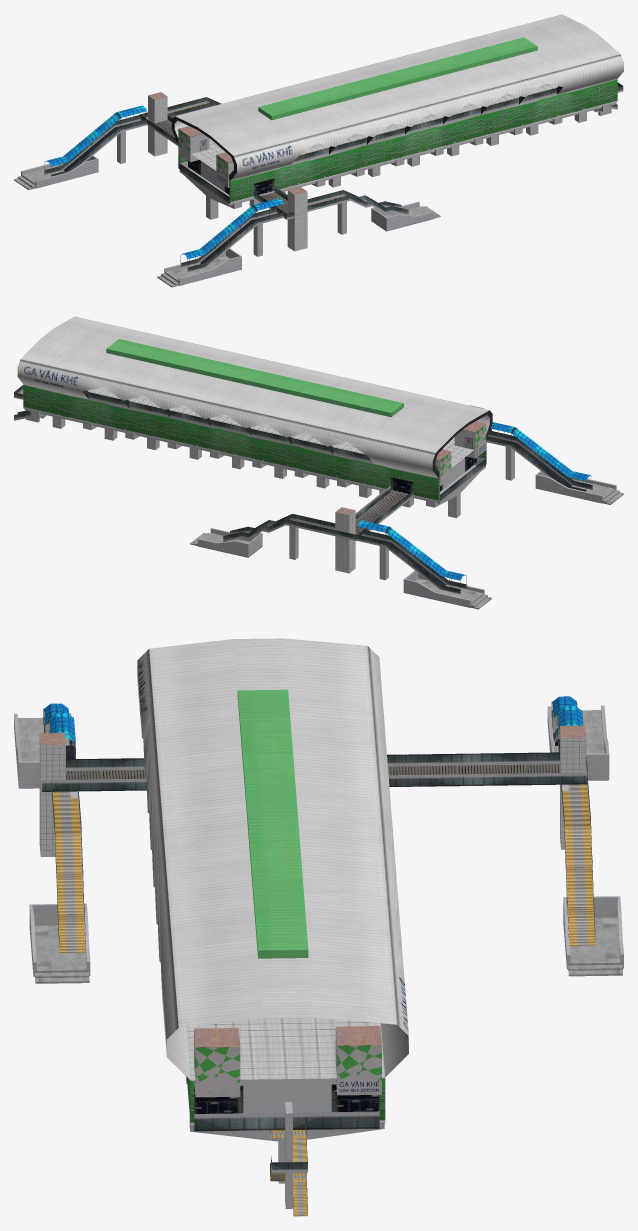
3 renders of one model, top to bottom at view 1: azimuth 30°, elevation 25°; view 2: azimuth 150°, elevation 25°; view 3: azimuth 270°, elevation 25°, orthographic. The views are drawn at different scales.
Parts seen in each view (by area): view 1: HN1265___Van_Khe_Metro_Station; view 2: HN1265___Van_Khe_Metro_Station; view 3: HN1265___Van_Khe_Metro_Station.
Part boxes in pixels (x1,y1,x2,y2): HN1265___Van_Khe_Metro_Station: [14, 14, 623, 287]; HN1265___Van_Khe_Metro_Station: [14, 316, 623, 609]; HN1265___Van_Khe_Metro_Station: [14, 638, 623, 1216].
Bounding box in the file's own units: 133 × 22.19 × 67.98.
1 material, 1 textured.
